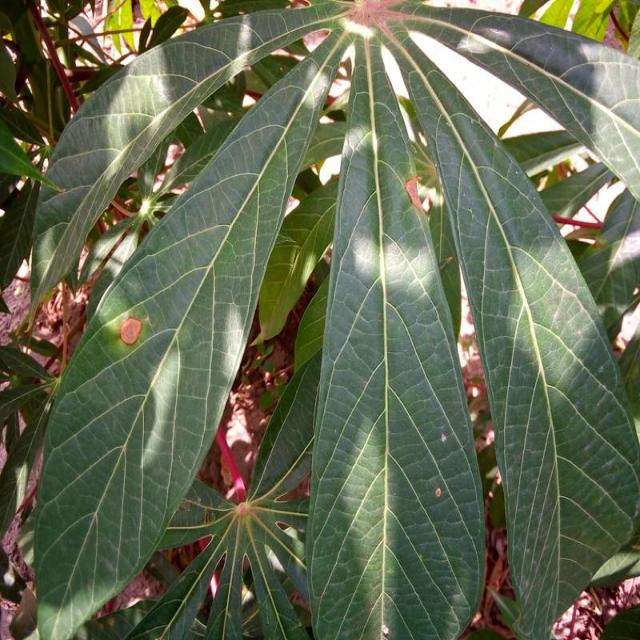cassava leaf: (23, 1, 639, 638), (402, 24, 640, 638), (305, 31, 487, 638)
